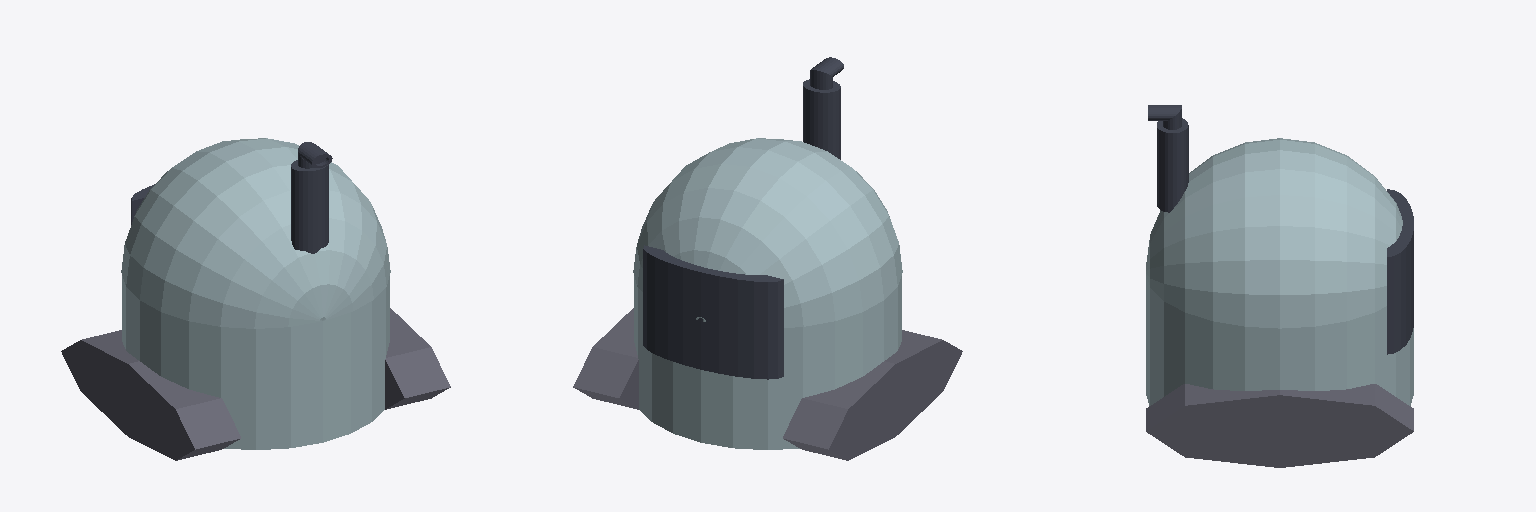
The model's file is Player.obj.
3 renders of one model, left to right at view 1: azimuth 30°, elevation 25°; view 2: azimuth 150°, elevation 25°; view 3: azimuth 270°, elevation 25°, orthographic.
Size of the model in its own units: 1.1 by 1.23 by 1.